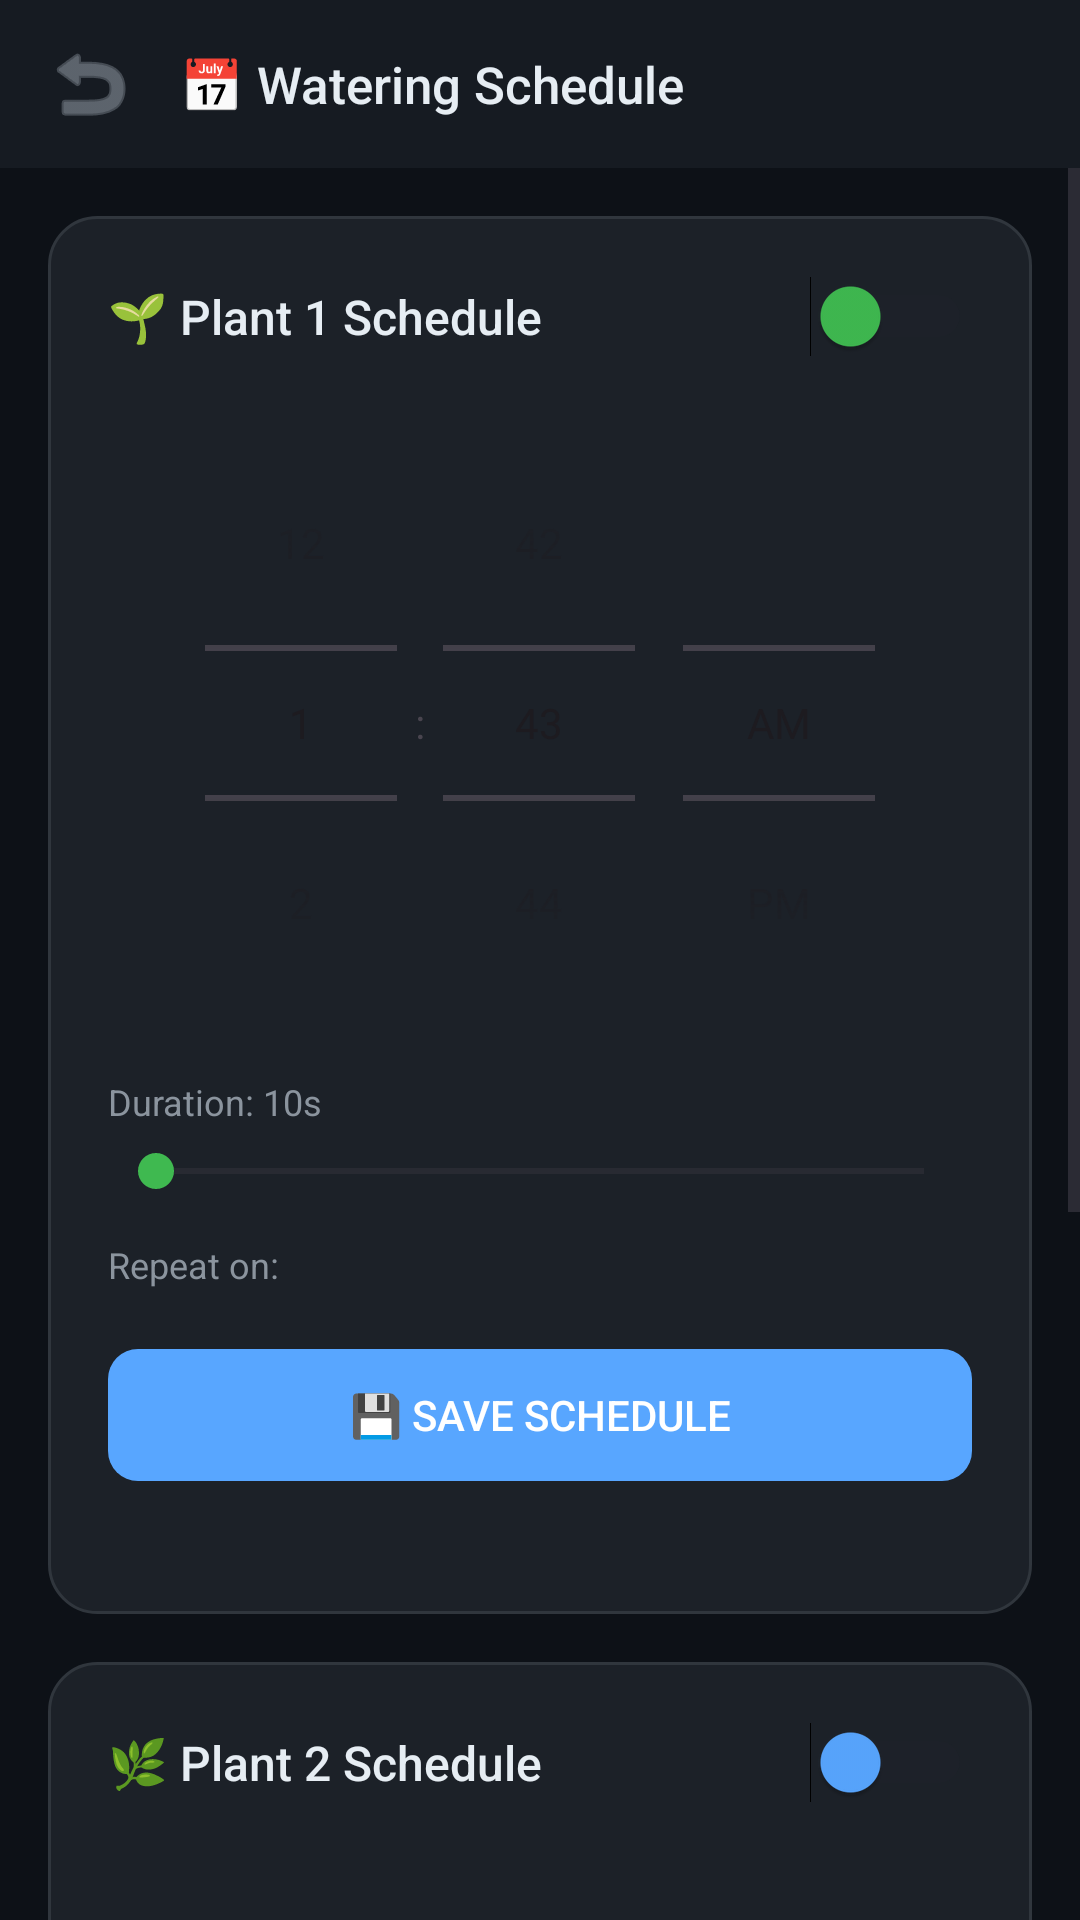

Named icons in this screenshot (1080px×1920px) and their centers, point (x, y):
Back: point (91, 85)
